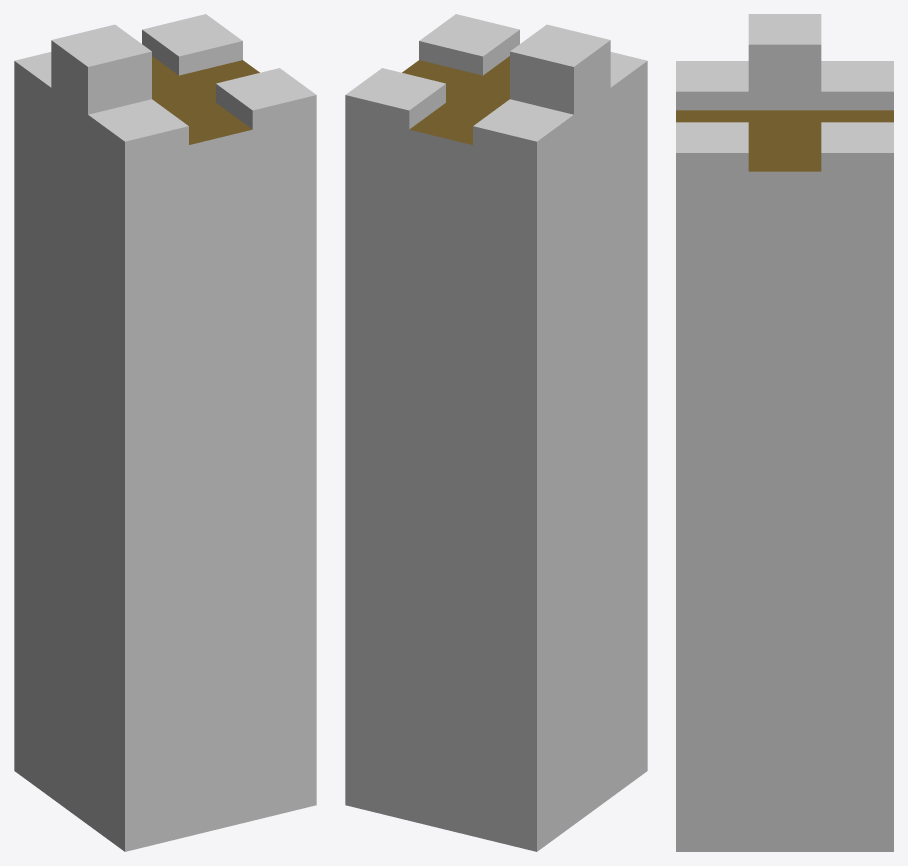
File: Brick_Wall_Cross1.fbx
The picture shows the model from 3 angles, left to right: view 1: azimuth 30°, elevation 25°; view 2: azimuth 150°, elevation 25°; view 3: azimuth 270°, elevation 25°; orthographic projection.
Visible parts, largest first — view 1: Brick_Wall_Cross1; view 2: Brick_Wall_Cross1; view 3: Brick_Wall_Cross1.
Part boxes in pixels (x1,y1,x2,y2): Brick_Wall_Cross1: (14,14,316,851); Brick_Wall_Cross1: (345,14,647,851); Brick_Wall_Cross1: (676,14,893,851).
Size of the model in its own units: 200 by 756 by 200.
